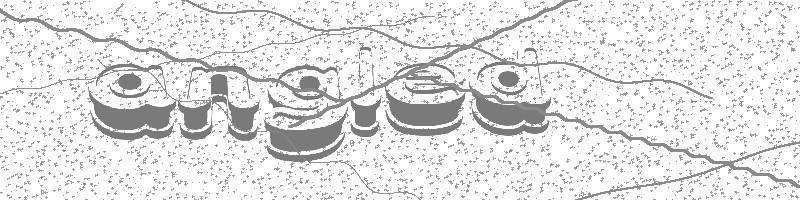a: (86, 62, 177, 141)
d: (468, 47, 550, 136)
e: (384, 62, 464, 137)
g: (264, 64, 348, 164)
l: (350, 45, 382, 138)
n: (178, 66, 263, 143)
